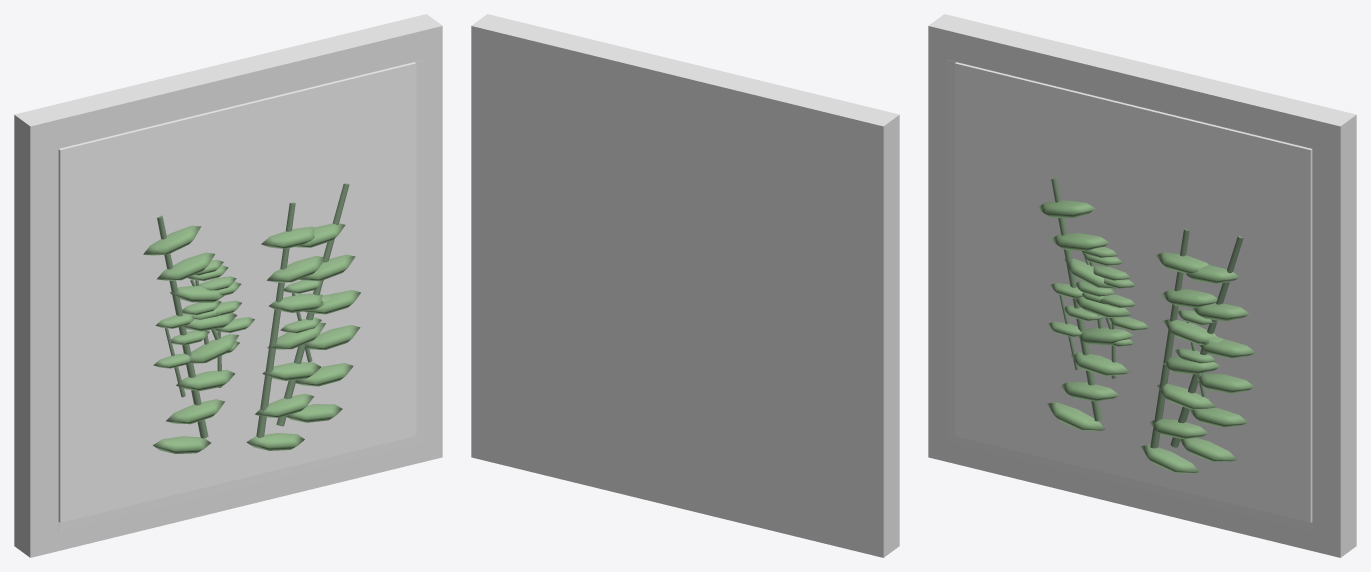
File: TheWindno01_39c688d0.glb
3 views of the same model, side by side, from view 1: azimuth 30°, elevation 25°; view 2: azimuth 150°, elevation 25°; view 3: azimuth 330°, elevation 25° (orthographic).
Size of the model in its own units: 2.2 by 2.2 by 0.2343.
